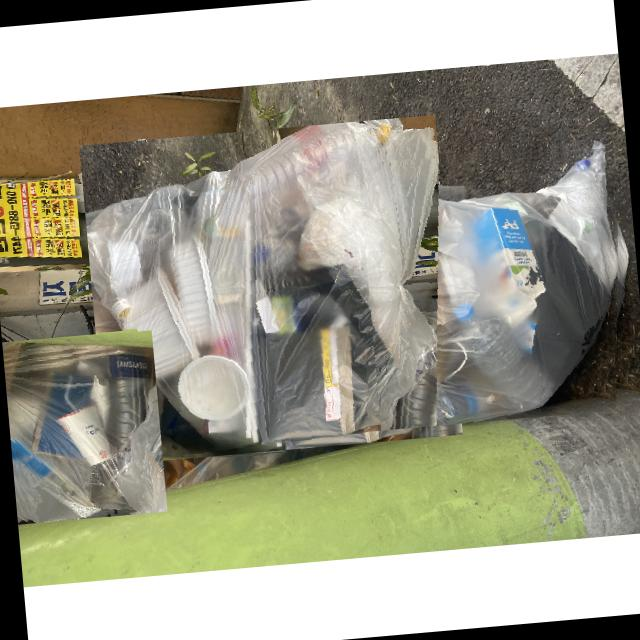other_trashbag: (86, 118, 434, 445), (374, 147, 619, 429), (1, 343, 153, 523)
